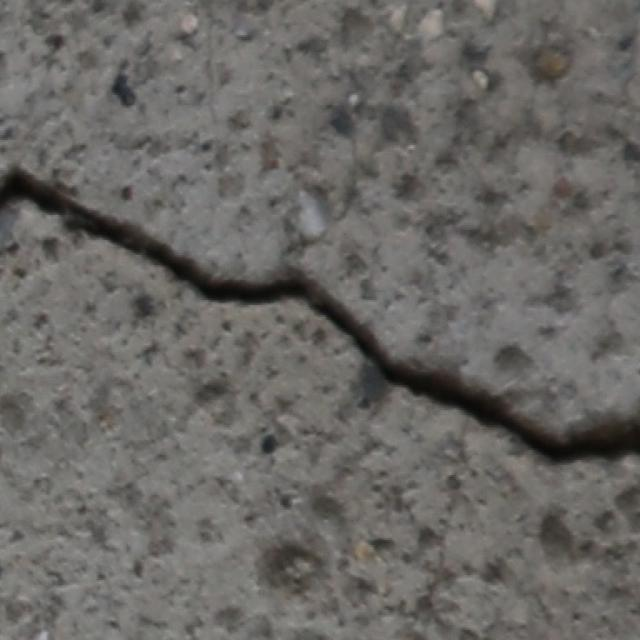Diagonal: (0, 148, 640, 486)
